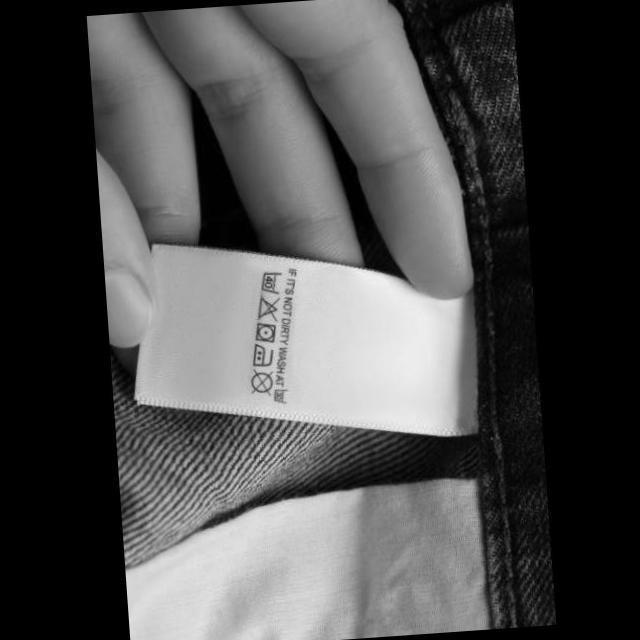40C: (256, 270, 283, 297)
DN_bleach: (252, 292, 282, 324)
DN_dry_clean: (244, 366, 276, 398)
iron_medium: (248, 339, 274, 368)
tumble_dry_low: (251, 320, 276, 344)
